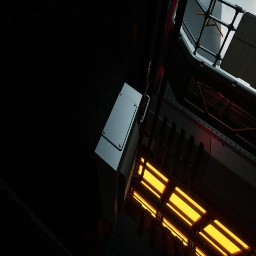SafetySwitchPanel ,: (94, 82, 148, 228)
